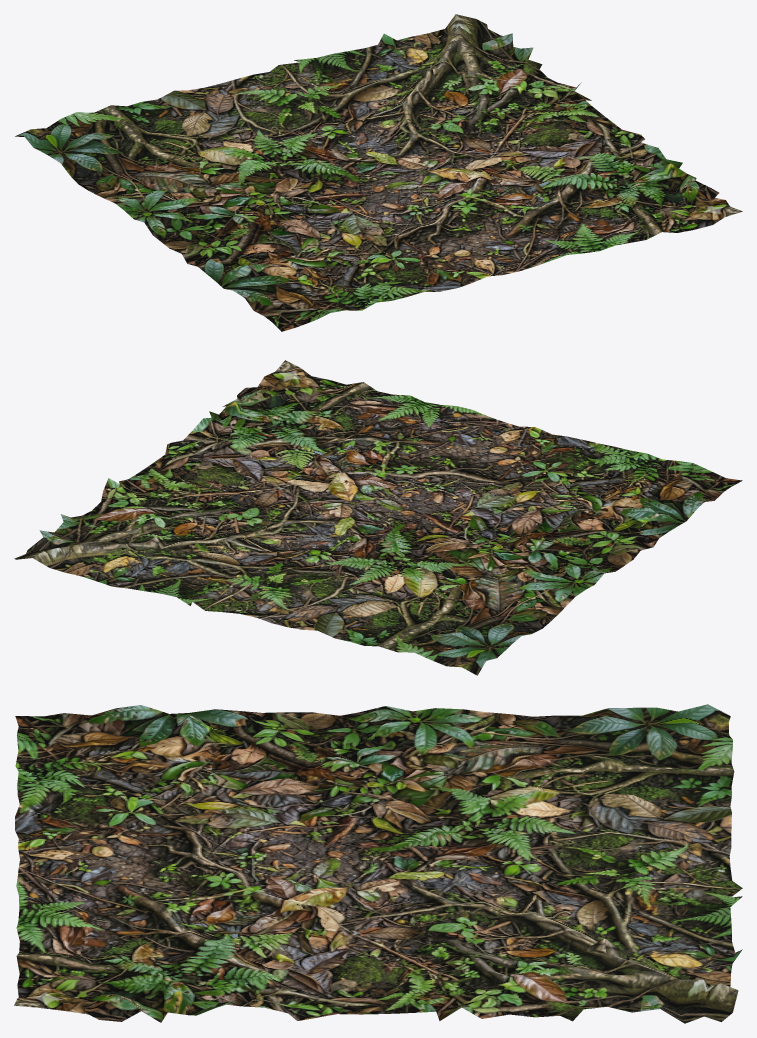
Rendered from jungle_ground_roots.glb.
3 renders of one model, top to bottom at view 1: azimuth 30°, elevation 25°; view 2: azimuth 150°, elevation 25°; view 3: azimuth 270°, elevation 25°, orthographic. The views are drawn at different scales.
Visible parts, largest first — view 1: jungle_ground_roots; view 2: jungle_ground_roots; view 3: jungle_ground_roots.
Part boxes in pixels (bbox=[...]): jungle_ground_roots: bbox=[15, 14, 742, 331]; jungle_ground_roots: bbox=[14, 360, 742, 675]; jungle_ground_roots: bbox=[14, 704, 742, 1023].
Bounding box in the file's own units: 1.98 × 0.0631 × 1.98.
1 material, 1 textured.
